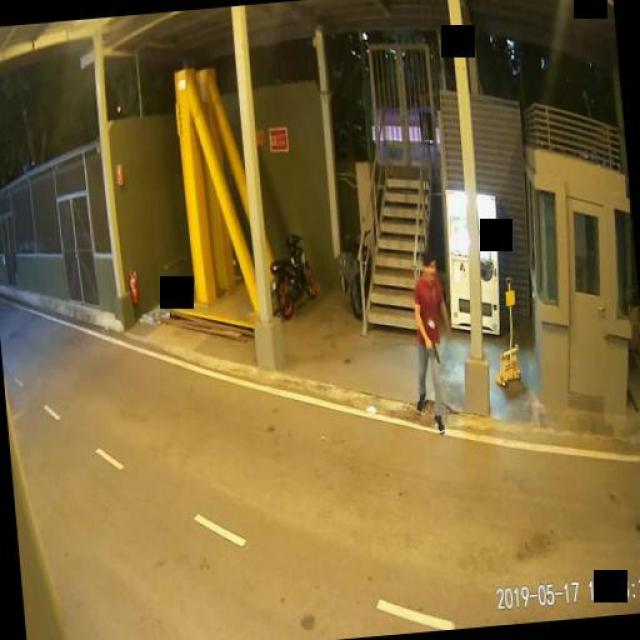gun: (425, 336, 439, 365)
